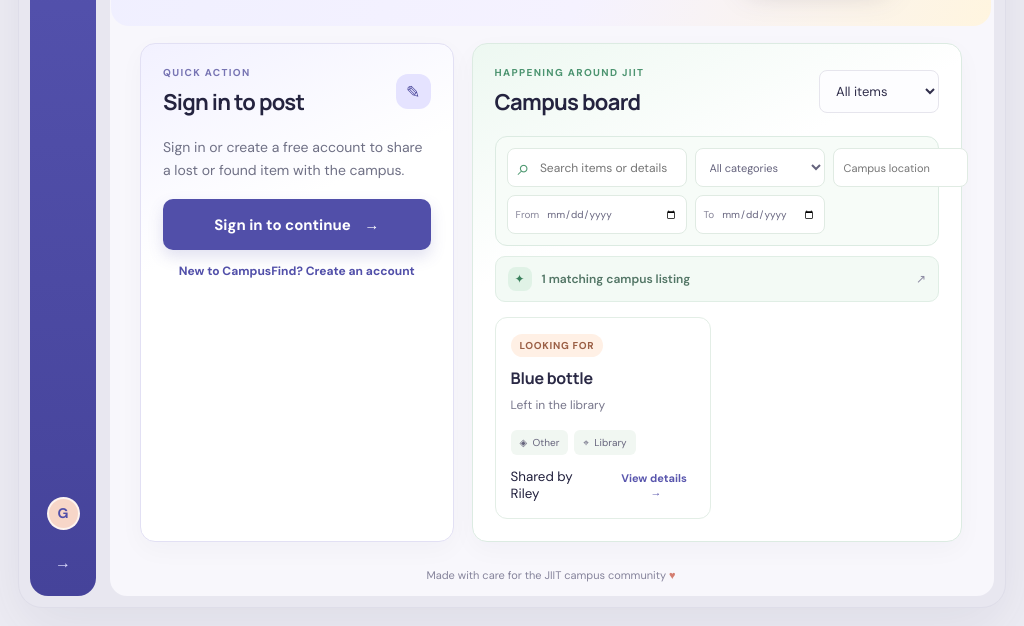
Scenario: CampusFind board › shows item details to visitors without owner controls
(page scrolled)
Click the button "View details →".
click(654, 485)  # box x1=613 y1=467 x2=695 y2=503
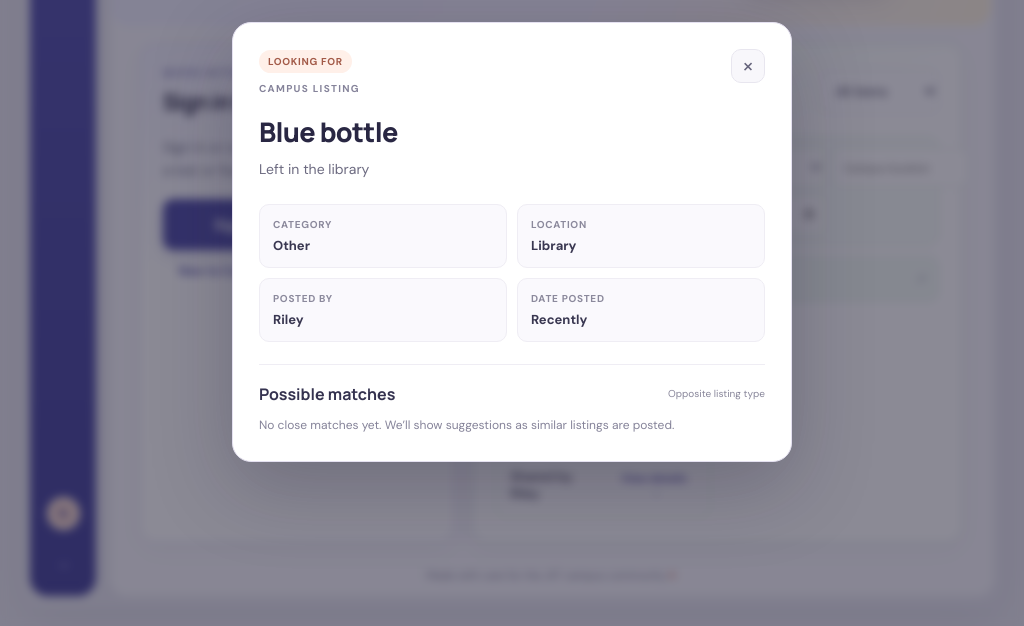
Result: the dialog is shown at x1=232 y1=22 x2=792 y2=462
Result: the heading "Blue bottle" is shown at x1=259 y1=113 x2=398 y2=150
